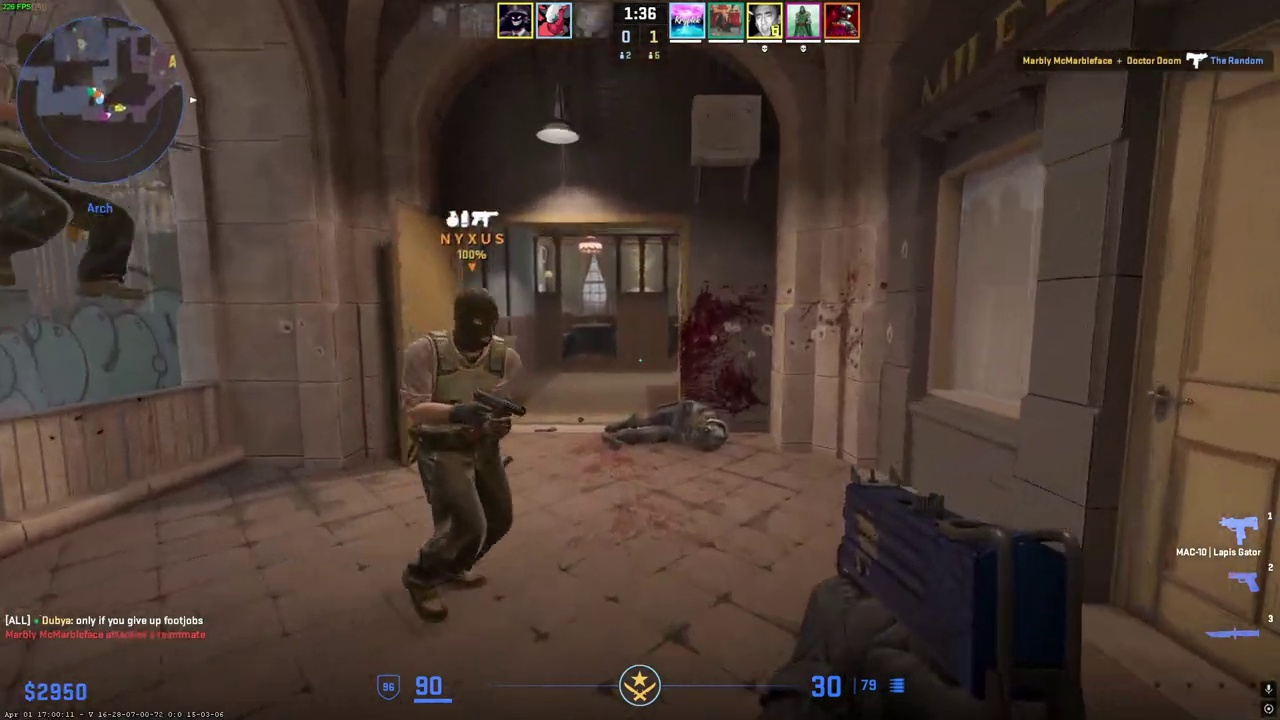Terrorist: (400, 288, 529, 627)
